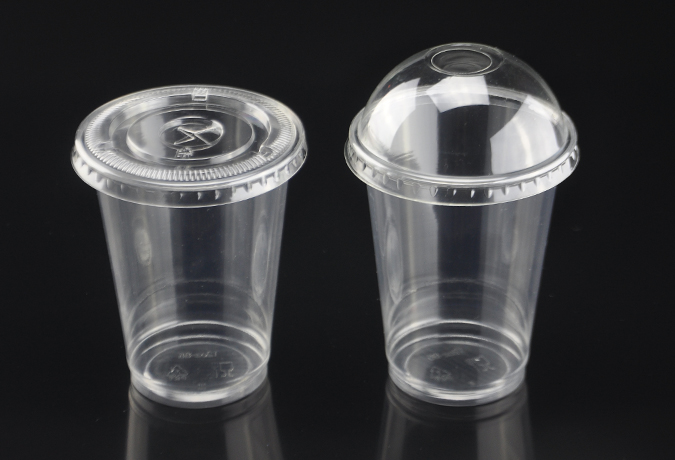plastic_glass: (287, 33, 642, 451), (41, 27, 319, 439)
